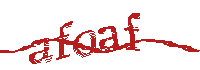a: (29, 36, 52, 66), (97, 26, 120, 50)
f: (124, 9, 141, 54), (55, 20, 74, 60)
o: (74, 29, 96, 60)
